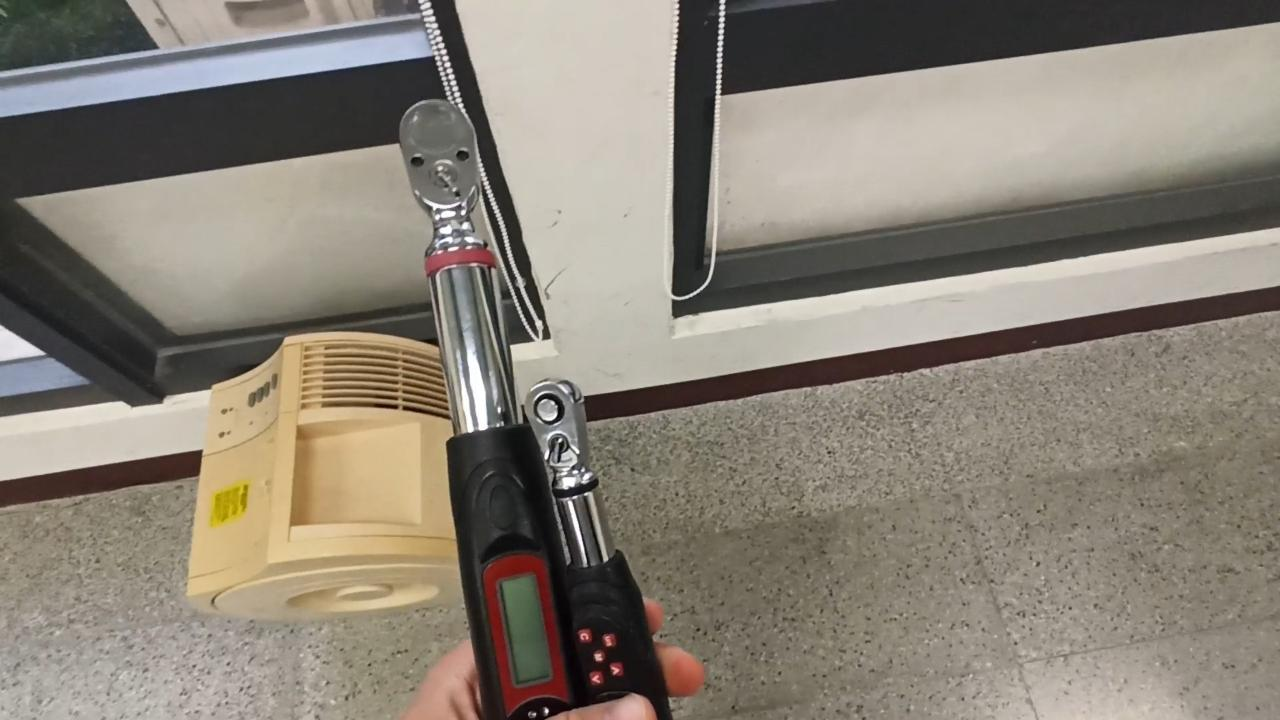Tool: (394, 99, 488, 246), (523, 380, 593, 474)
